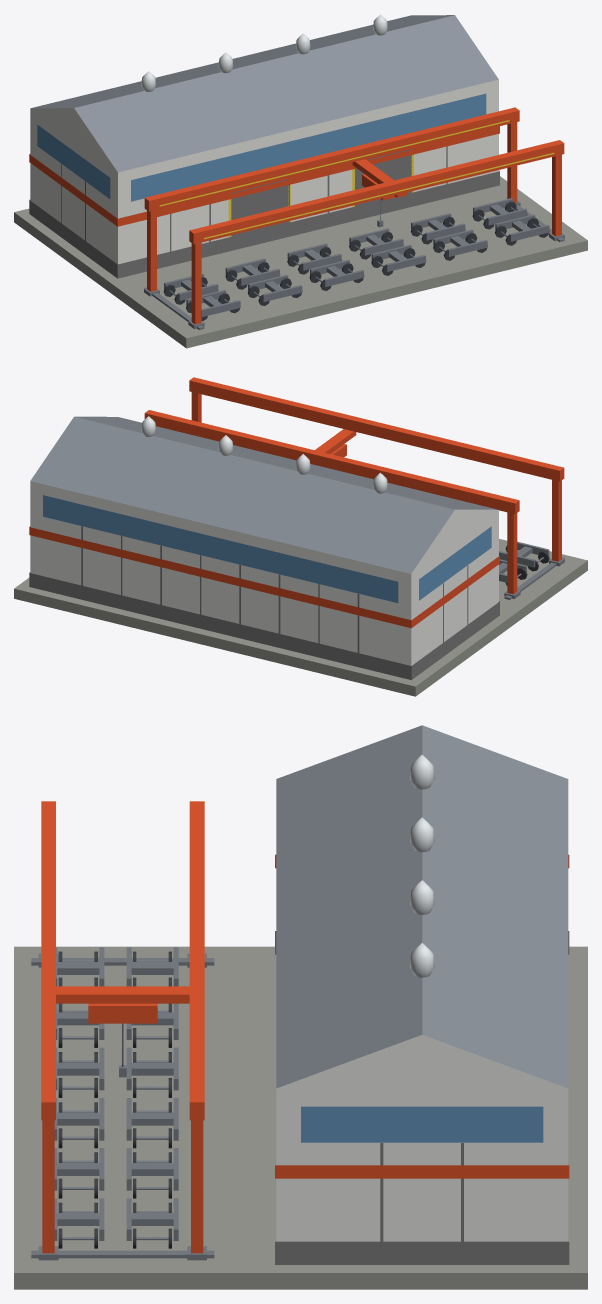
File: mashup-bogie-top-prebuilt_close.fbx
The picture shows the model from 3 angles, top to bottom: view 1: azimuth 30°, elevation 25°; view 2: azimuth 150°, elevation 25°; view 3: azimuth 270°, elevation 25°; orthographic projection. The views are drawn at different scales.
Visible parts, largest first — view 1: a1082/0/mashup-bogie-top-prebuilt_close; view 2: a1082/0/mashup-bogie-top-prebuilt_close; view 3: a1082/0/mashup-bogie-top-prebuilt_close.
Part boxes in pixels (x1,y1,x2,y2): a1082/0/mashup-bogie-top-prebuilt_close: (14, 14, 587, 348); a1082/0/mashup-bogie-top-prebuilt_close: (14, 377, 587, 696); a1082/0/mashup-bogie-top-prebuilt_close: (14, 725, 587, 1289).
Bounding box in the file's own units: 31.2 × 12.4 × 23.2.
